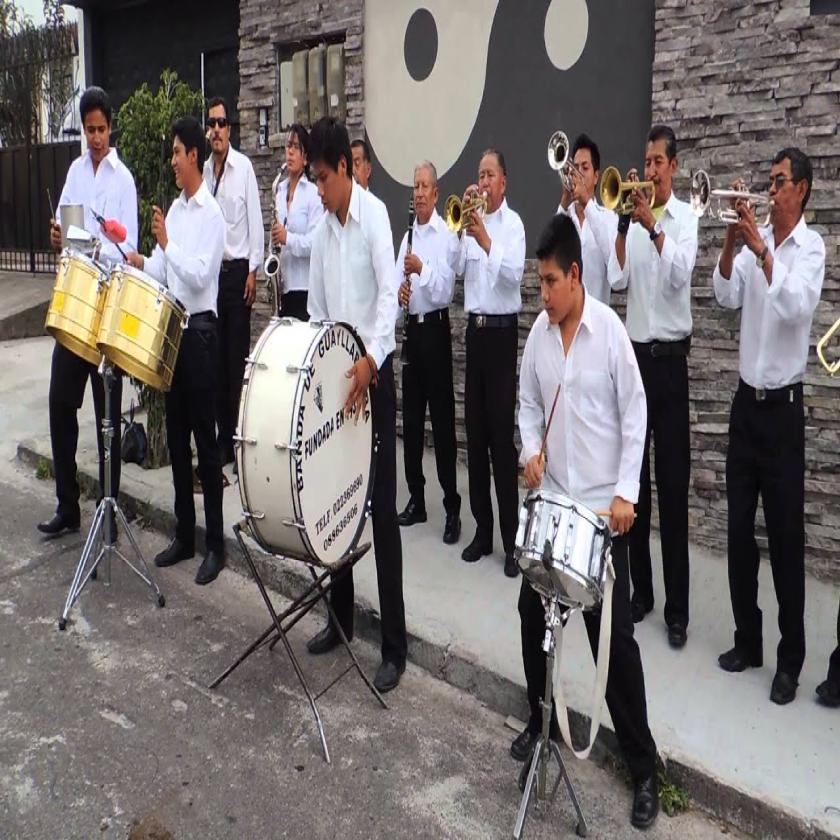Sin_casco: (536, 209, 586, 322), (764, 140, 818, 234), (309, 110, 356, 214), (638, 119, 680, 223), (164, 112, 209, 194), (78, 85, 113, 165), (409, 155, 443, 221), (479, 143, 510, 209), (205, 98, 236, 163), (571, 131, 596, 210), (348, 135, 376, 197), (284, 119, 310, 185)
